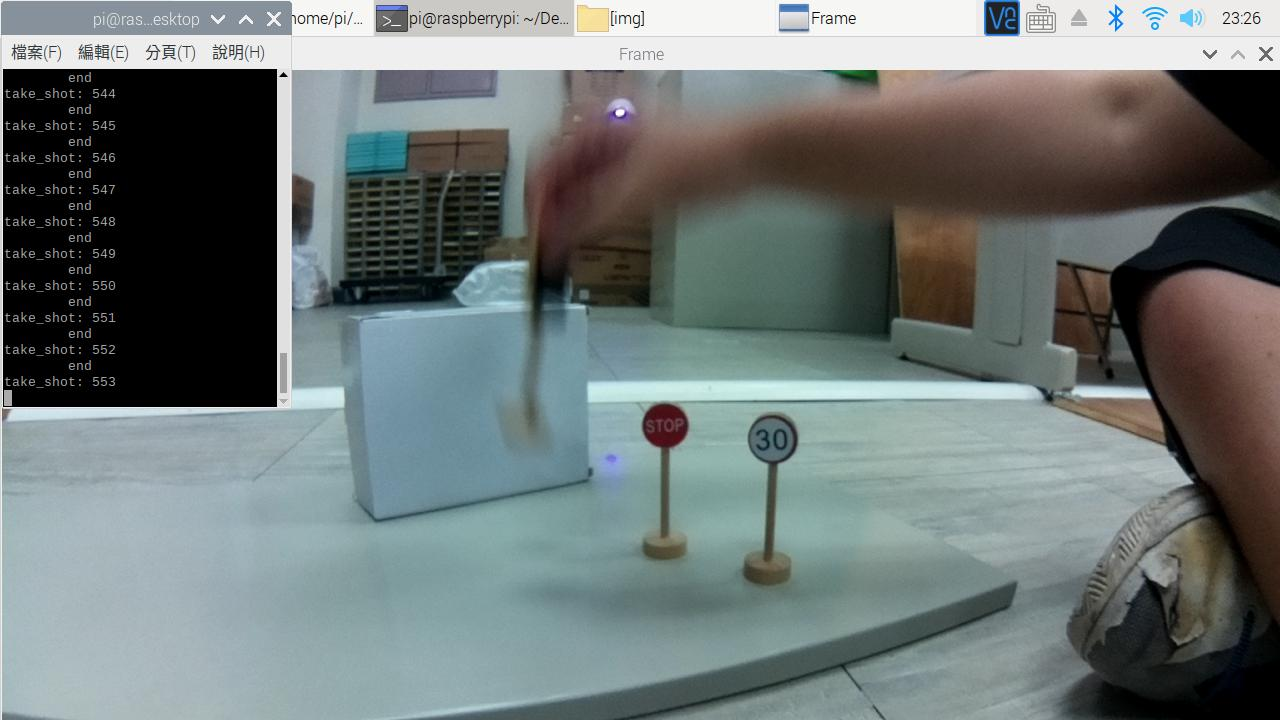Speed30: (733, 405, 808, 477)
Stop: (639, 390, 694, 457)
